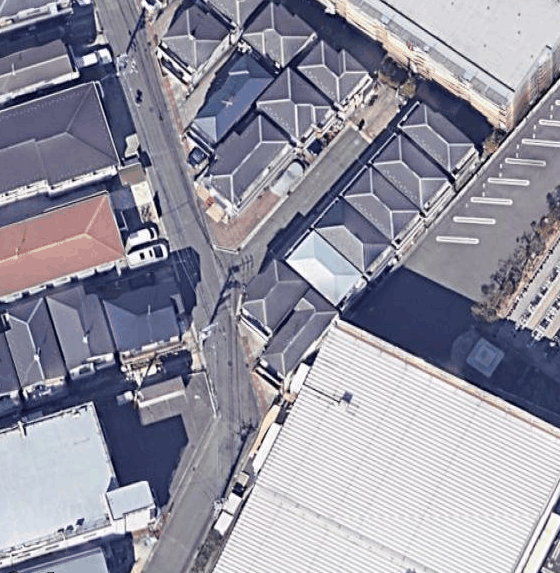rooftop: (0, 398, 152, 549)
